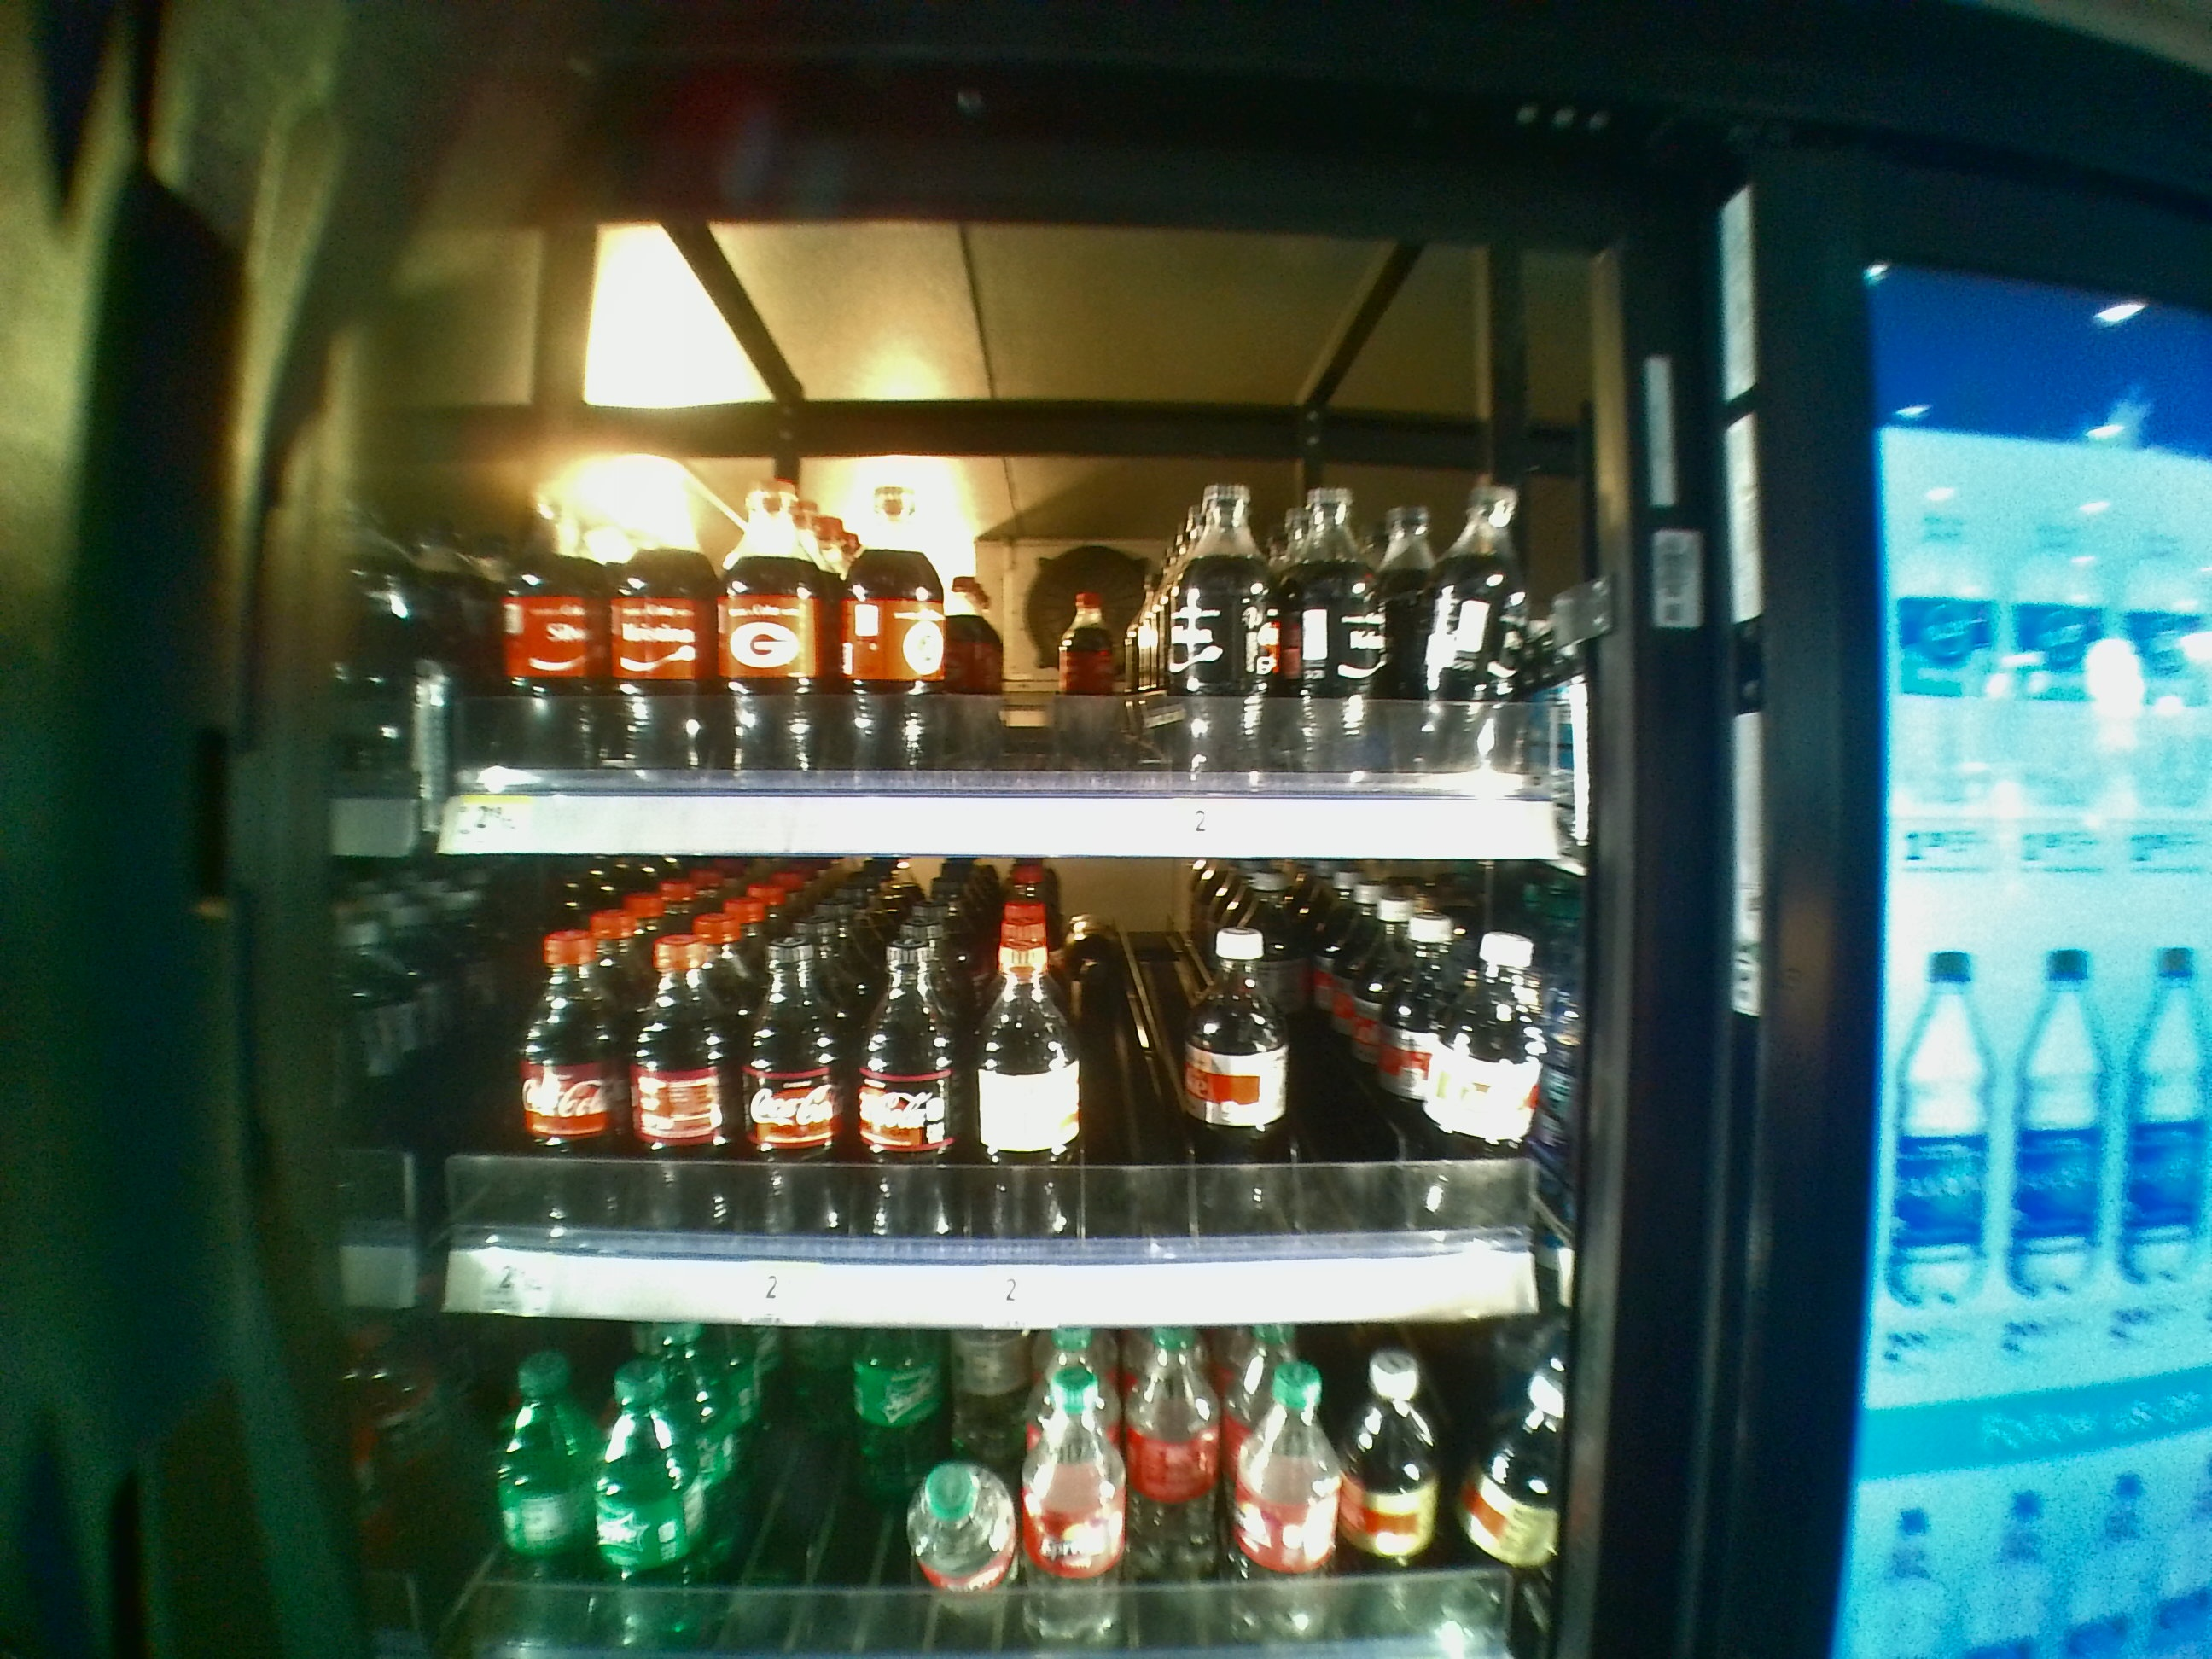shelf: (395, 211, 1581, 857), (395, 857, 1581, 1331)
